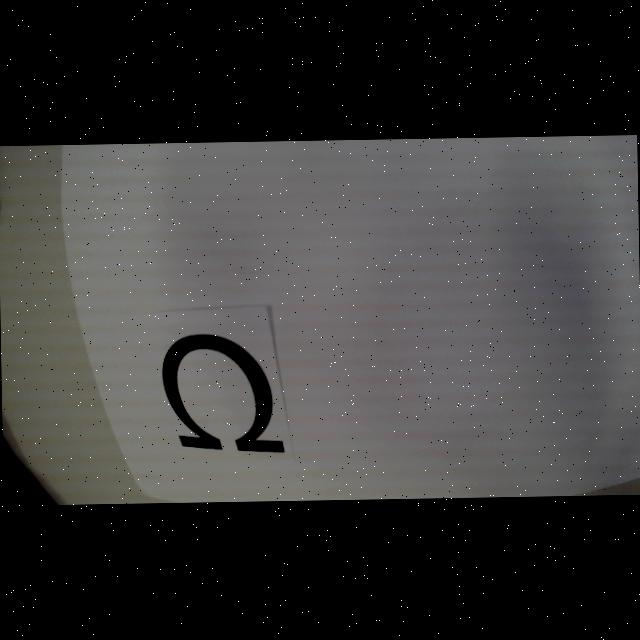OMEGA: (162, 332, 286, 454)
